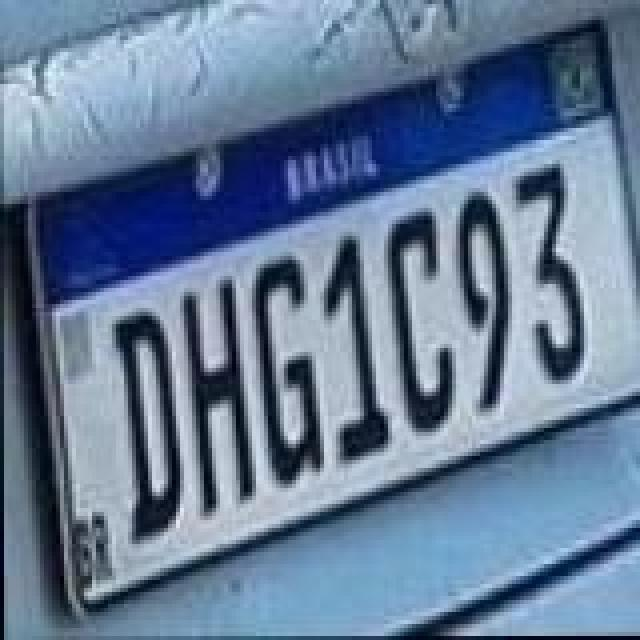1: (318, 236, 390, 464)
3: (512, 158, 588, 386)
9: (452, 196, 512, 416)
C: (386, 214, 458, 438)
D: (108, 314, 184, 550)
G: (252, 248, 328, 484)
H: (182, 274, 254, 522)
